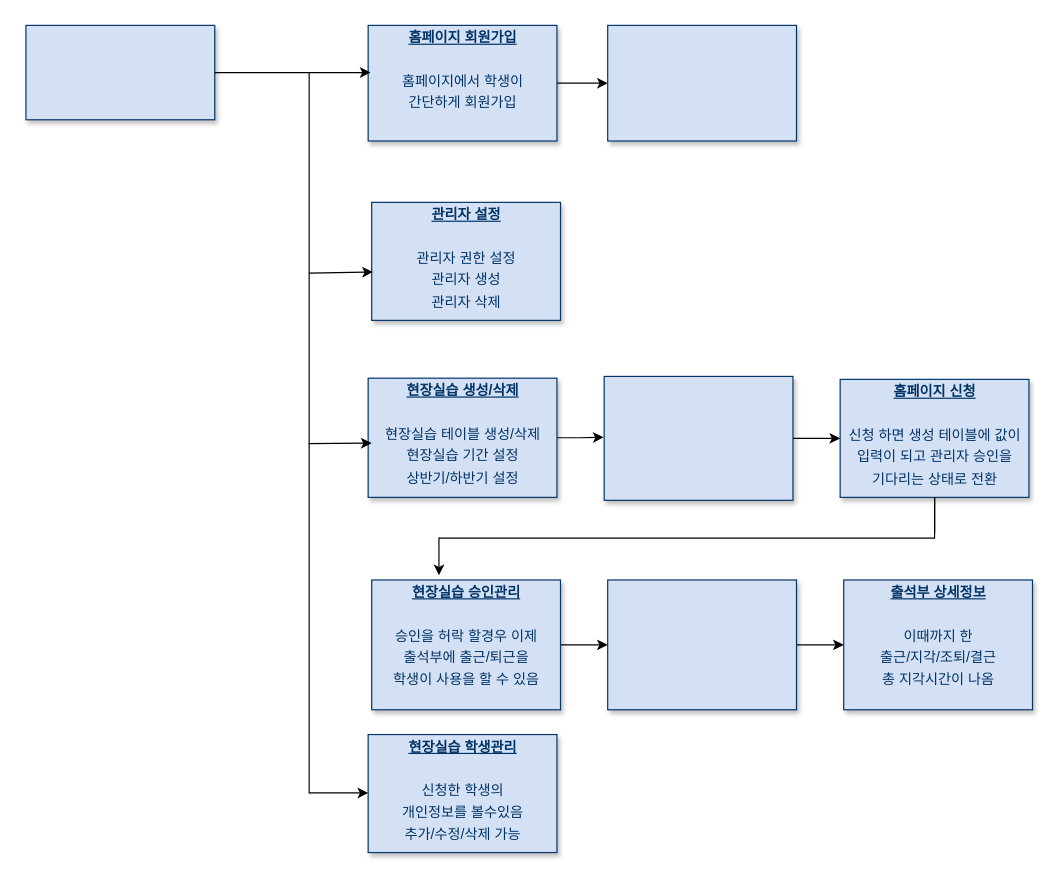
This 1060x881 diagram has some shape labels left out. The shapes that lost their labels are listed below. From the top down, each one's centre as x and y in pixels, then its label:
At [121,73]: "관리자 로그인 로그인 폼".
At [703,84]: "유저 관리 웹에서 회원가입 한 유저 관리 회원수정/탈퇴 기능".
At [699,440]: "실습(테이블) 생성 테이블 생성 후 웹에서 연동되어 웹에서 시작 전 날까지 신청 가능".
At [703,646]: "현장실습 출석부 출근/지각/조퇴/결근을 체크 학생을 누를경우 종합한 통계가 나옴".
